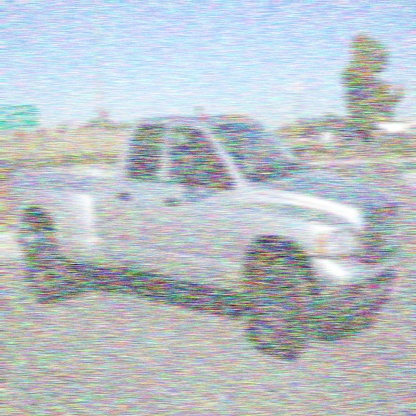Vehicle: (7, 112, 402, 360)
